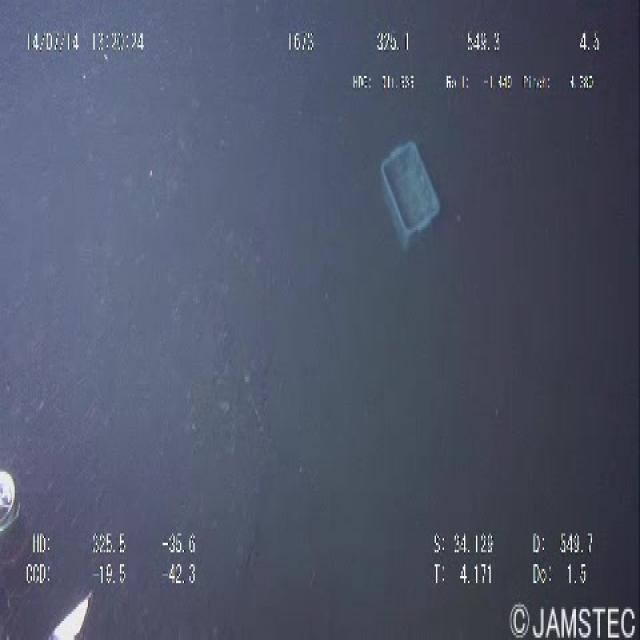plastic: (364, 119, 449, 256)
